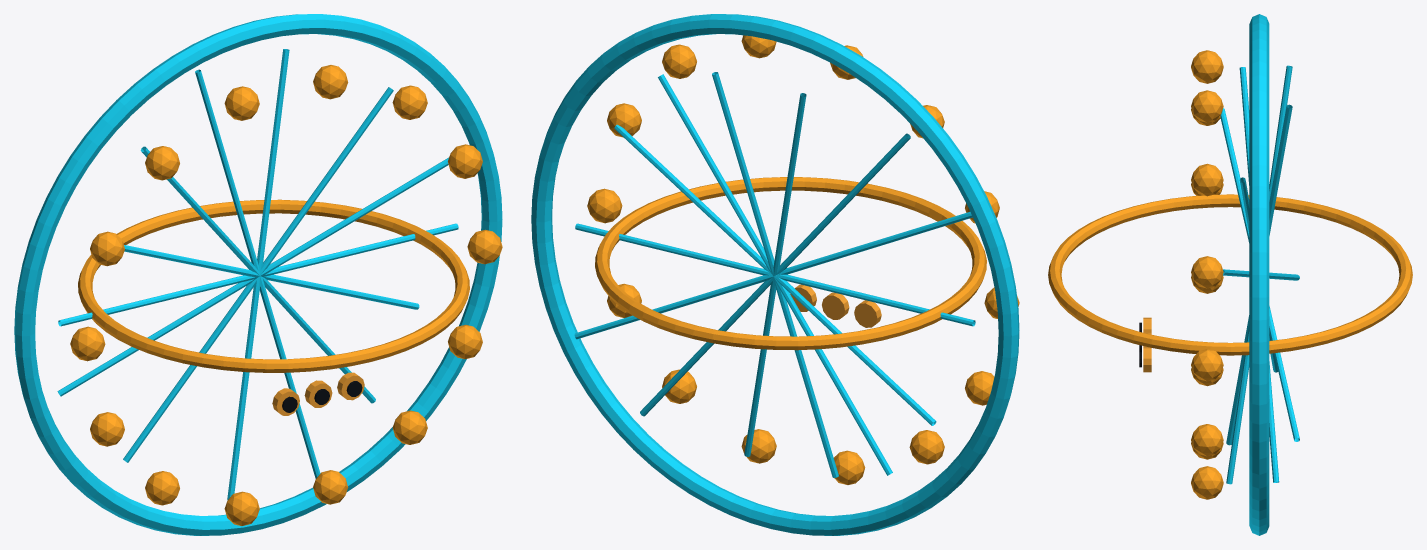
File: 67_L89_ShieldCoverageDigitalTwin.fbx
3 renders of one model, left to right at view 1: azimuth 30°, elevation 25°; view 2: azimuth 150°, elevation 25°; view 3: azimuth 270°, elevation 25°, orthographic. The views are drawn at different scales.
Visible parts, largest first — view 1: L87_ShieldCoverageDigitalTwin_Part_0000, L87_ShieldCoverageDigitalTwin_Part_0001; view 2: L87_ShieldCoverageDigitalTwin_Part_0000, L87_ShieldCoverageDigitalTwin_Part_0001, L87_ShieldCoverageDigitalTwin_Part_0002, L87_ShieldCoverageDigitalTwin_Part_0004; view 3: L87_ShieldCoverageDigitalTwin_Part_0000, L87_ShieldCoverageDigitalTwin_Part_0001.
Boxes of the visible parts, x1,y1,x2,y2 form: L87_ShieldCoverageDigitalTwin_Part_0000: (14, 14, 502, 535); L87_ShieldCoverageDigitalTwin_Part_0001: (70, 65, 502, 525); L87_ShieldCoverageDigitalTwin_Part_0000: (531, 14, 1019, 535); L87_ShieldCoverageDigitalTwin_Part_0001: (587, 35, 1019, 484); L87_ShieldCoverageDigitalTwin_Part_0002: (854, 300, 881, 327); L87_ShieldCoverageDigitalTwin_Part_0004: (822, 292, 849, 319); L87_ShieldCoverageDigitalTwin_Part_0000: (1220, 14, 1299, 535); L87_ShieldCoverageDigitalTwin_Part_0001: (1048, 50, 1412, 499).
Size of the model in its own units: 270 by 270 by 189.
